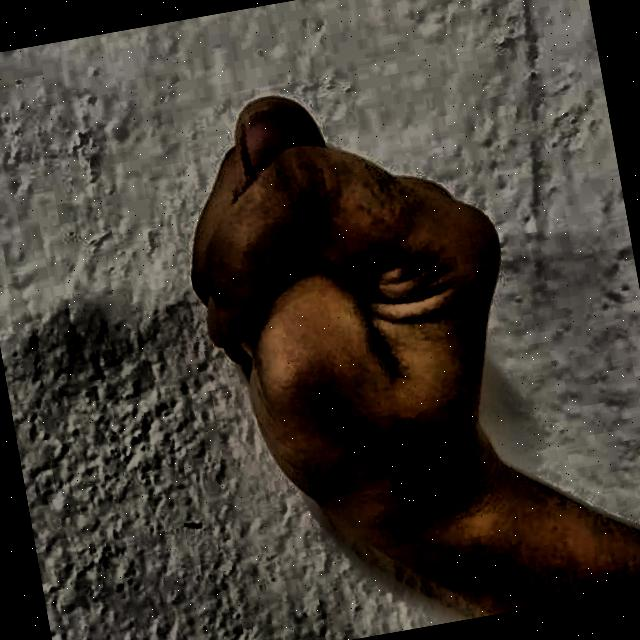Ta: (105, 8, 611, 640)
